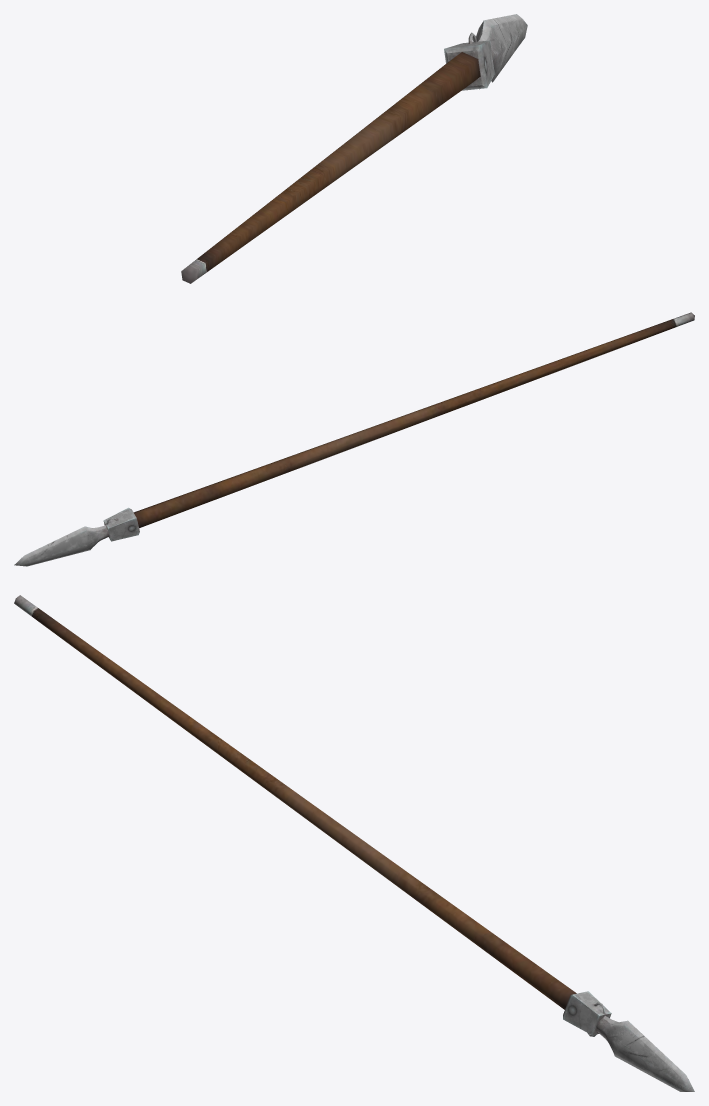
The model's file is weapon-copperweapons.glb.
The picture shows the model from 3 angles, top to bottom: view 1: azimuth 30°, elevation 25°; view 2: azimuth 150°, elevation 25°; view 3: azimuth 270°, elevation 25°; orthographic projection. The views are drawn at different scales.
Bounding box in the file's own units: 1.48 × 0.574 × 1.55.
1 material, 1 textured.
